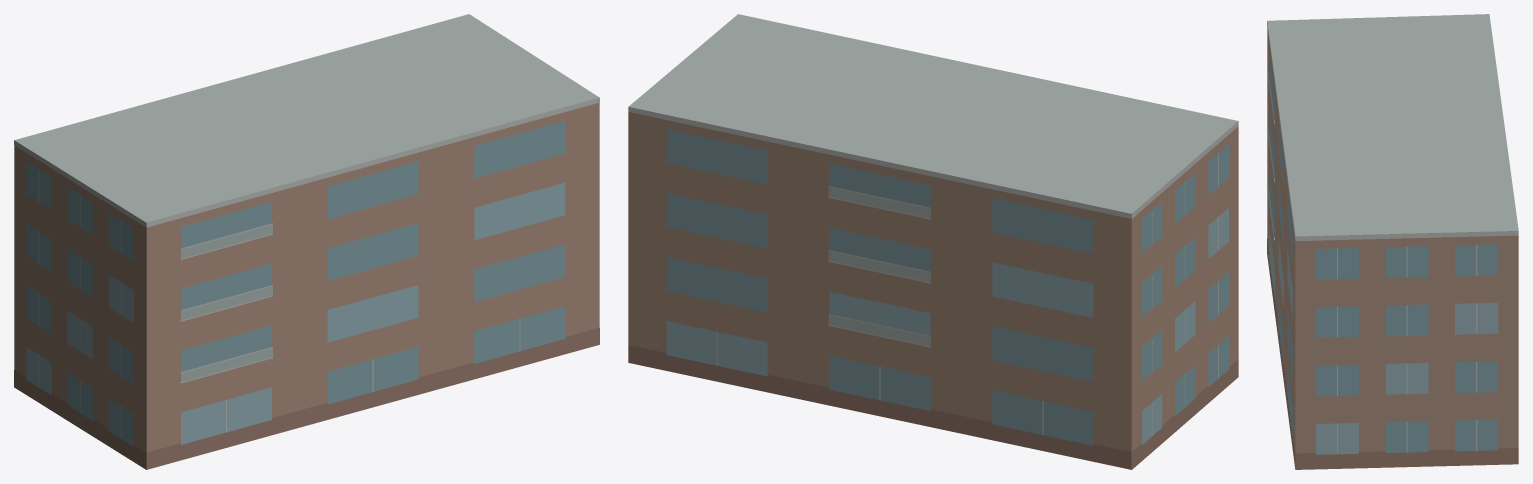
The model's file is survey-upis-32726749.glb.
3 views of the same model, side by side, from view 1: azimuth 30°, elevation 25°; view 2: azimuth 150°, elevation 25°; view 3: azimuth 270°, elevation 25° (orthographic). The views are drawn at different scales.
Parts seen in each view (by area): view 1: survey-upis-32726749.tmp; view 2: survey-upis-32726749.tmp; view 3: survey-upis-32726749.tmp.
Boxes of the visible parts, x1,y1,x2,y2 form: survey-upis-32726749.tmp: (14,14,599,469); survey-upis-32726749.tmp: (628,14,1238,469); survey-upis-32726749.tmp: (1267,14,1518,469).
Size of the model in its own units: 24.95 by 12.2 by 11.93.
